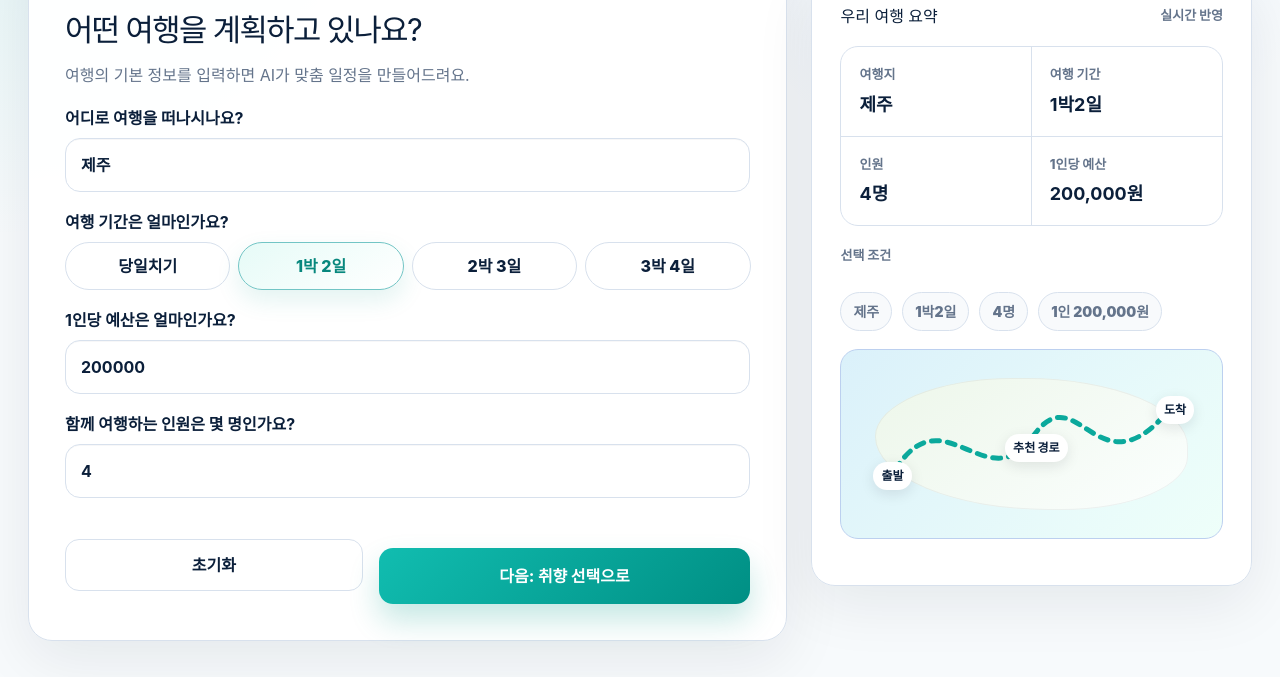
Test: DemoPlanner › generates a demo trip and exposes the result actions
This screenshot has width=1280, height=677.
(page scrolled)
Expected: the heading "어떤 여행을 계획하고 있나요?" is shown, 65,10 -> 421,48
What coordinates should you click on to do the following:
click the button "다음: 취향 선택으로"
I would click on:
 (564, 576)
Its box is 378,548 -> 750,604.
(page scrolled)
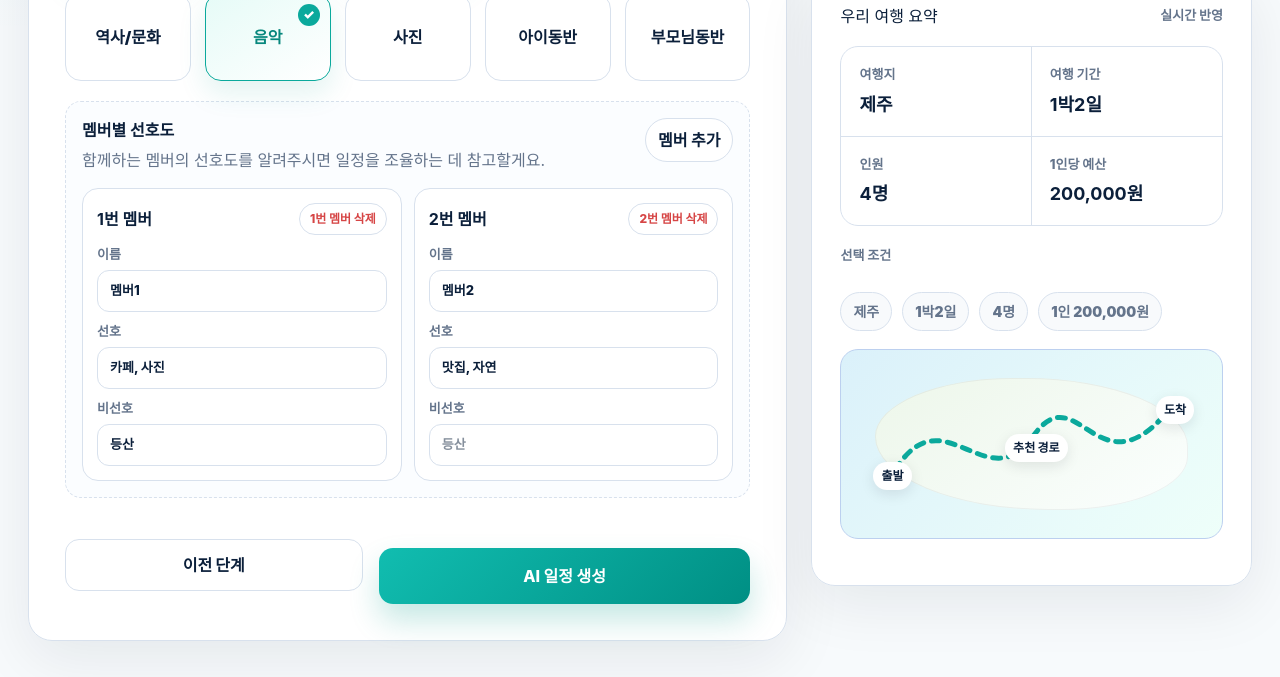
What coordinates should you click on to do the following:
click the button "AI 일정 생성"
I would click on:
 (564, 576)
Its box is 378,548 -> 750,604.
(page scrolled)
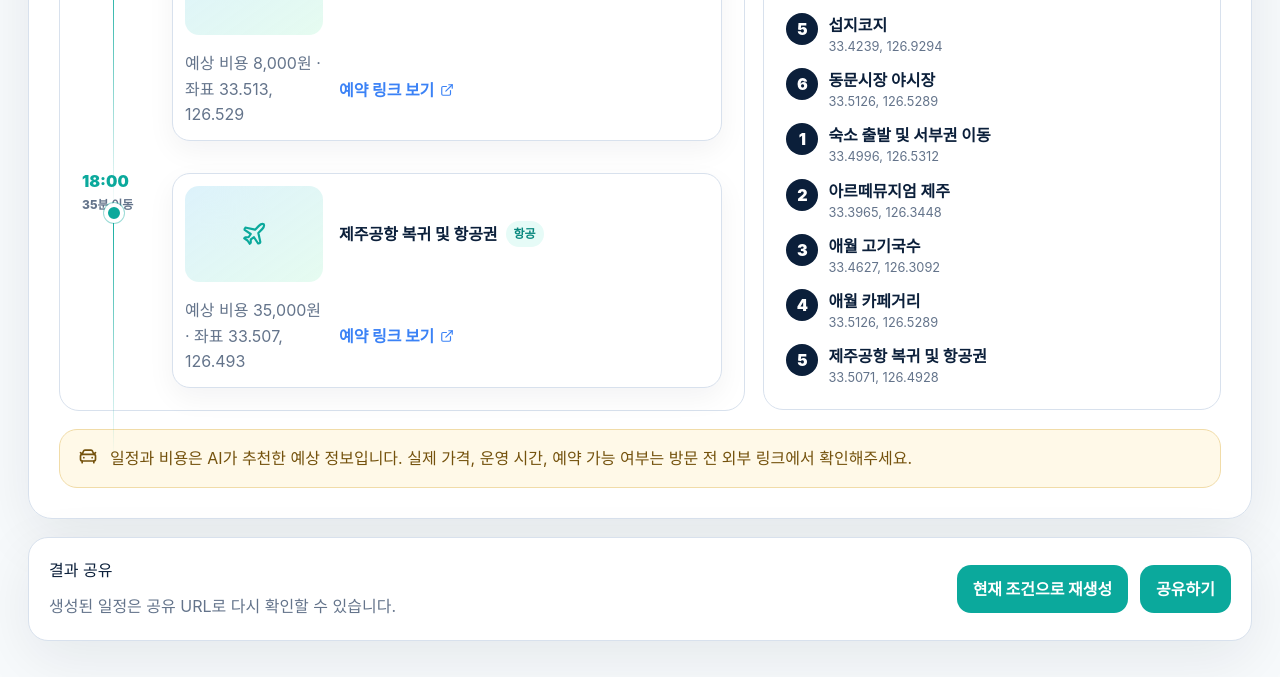
Expected: the button "공유하기" is enabled, 1140,565 -> 1231,613
